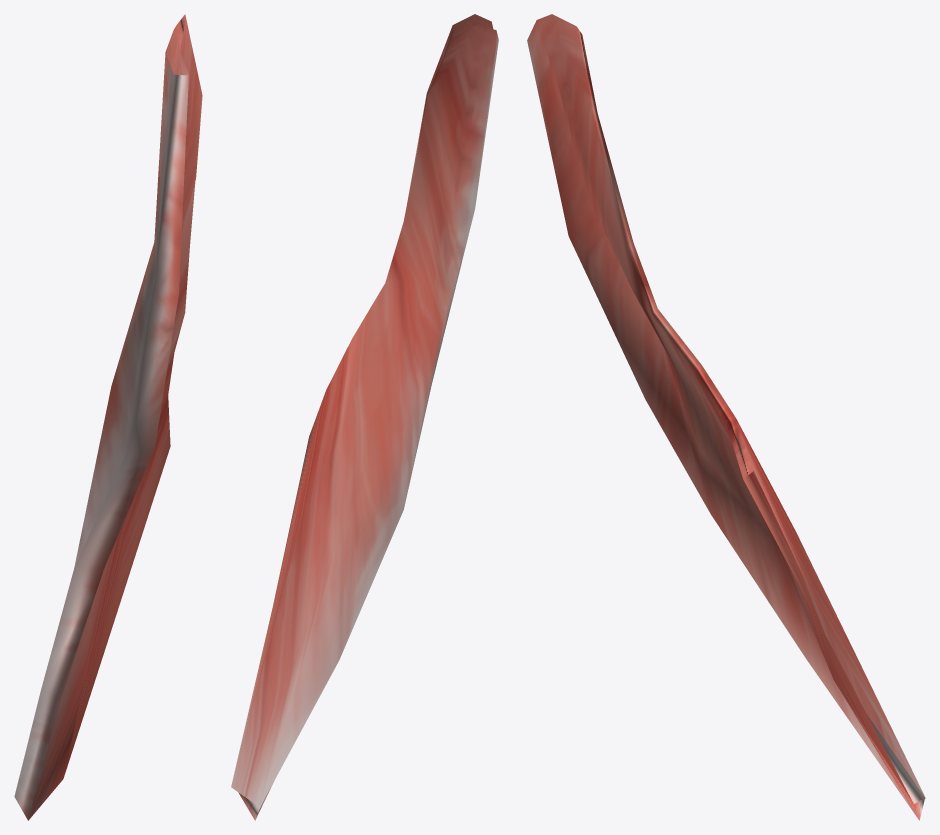
File: Longissimus_Capitis_Muscles_Right.obj
The picture shows the model from 3 angles, left to right: view 1: azimuth 30°, elevation 25°; view 2: azimuth 150°, elevation 25°; view 3: azimuth 270°, elevation 25°; orthographic projection. The views are drawn at different scales.
Visible parts, largest first — view 1: Splenius_Capitis_Muscle_Left1:Splenius_Cervicis_Muscle_Left1_Mes; view 2: Splenius_Capitis_Muscle_Left1:Splenius_Cervicis_Muscle_Left1_Mes; view 3: Splenius_Capitis_Muscle_Left1:Splenius_Cervicis_Muscle_Left1_Mes.
Boxes of the visible parts, x1,y1,x2,y2 form: Splenius_Capitis_Muscle_Left1:Splenius_Cervicis_Muscle_Left1_Mes: (14, 14, 202, 820); Splenius_Capitis_Muscle_Left1:Splenius_Cervicis_Muscle_Left1_Mes: (231, 14, 498, 820); Splenius_Capitis_Muscle_Left1:Splenius_Cervicis_Muscle_Left1_Mes: (527, 14, 925, 820).
Size of the model in its own units: 0.2422 by 1.71 by 0.7935.
